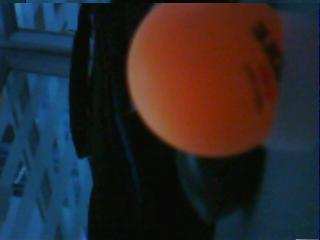oball: (126, 3, 284, 157)
